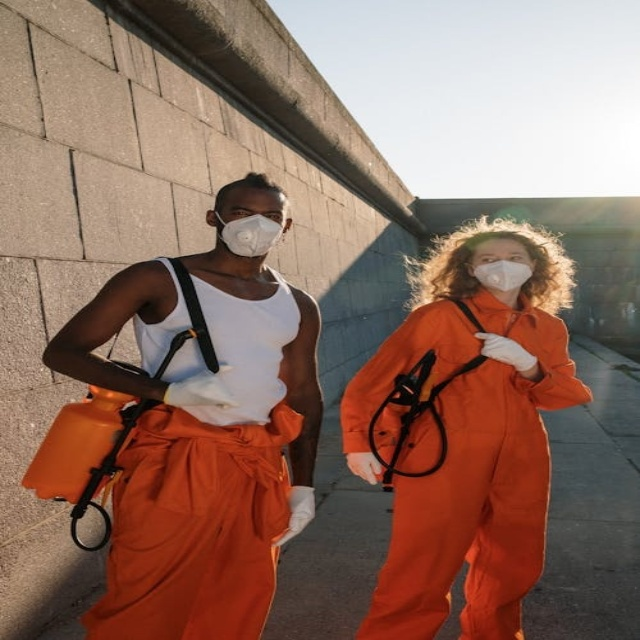Guantes: (269, 484, 320, 547), (161, 370, 237, 409), (471, 330, 538, 371), (343, 450, 384, 490)
Mascara: (217, 213, 283, 257), (473, 259, 533, 292)
Sin_gafas: (219, 203, 280, 222), (472, 248, 530, 261)
